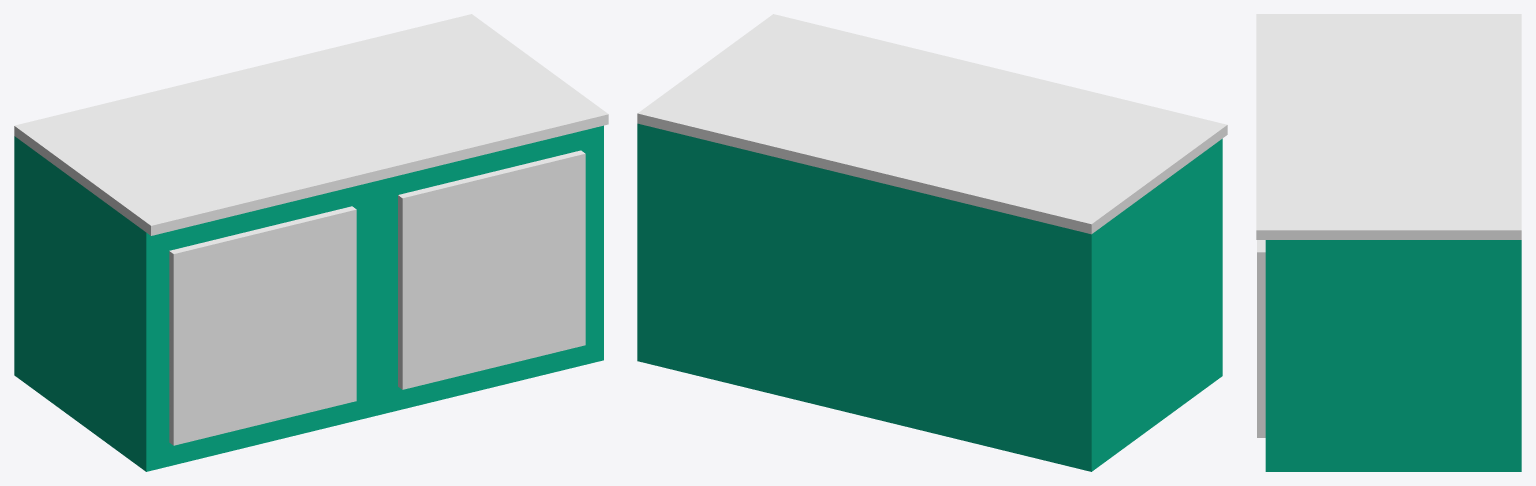
File: counter.fbx
3 views of the same model, side by side, from view 1: azimuth 30°, elevation 25°; view 2: azimuth 150°, elevation 25°; view 3: azimuth 270°, elevation 25° (orthographic). The views are drawn at different scales.
Visible parts, largest first — view 1: counter; view 2: counter; view 3: counter.
Boxes of the visible parts, x1,y1,x2,y2 form: counter: [14, 14, 608, 471]; counter: [637, 14, 1227, 471]; counter: [1256, 14, 1521, 471].
Size of the model in its own units: 400 by 208 by 207.
